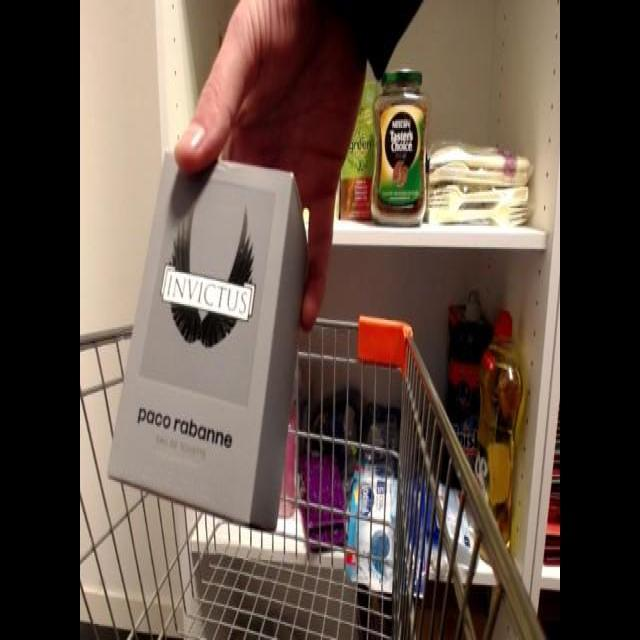Paco Rabanne: (104, 138, 317, 534)
